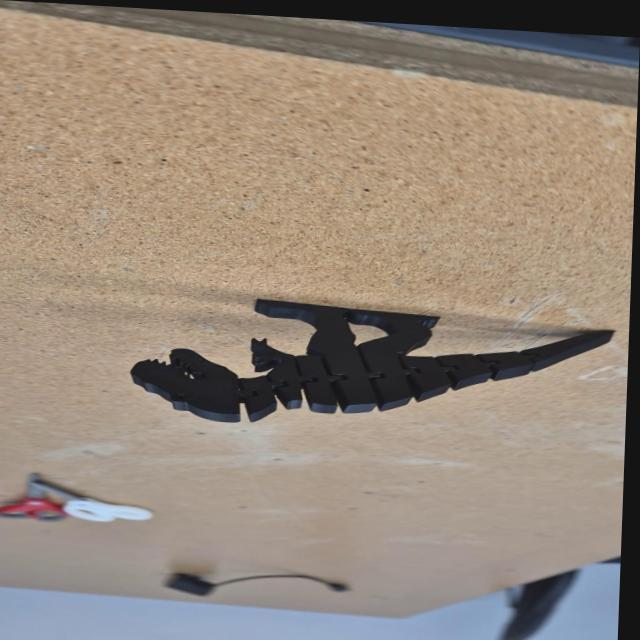dino: (127, 290, 619, 447)
